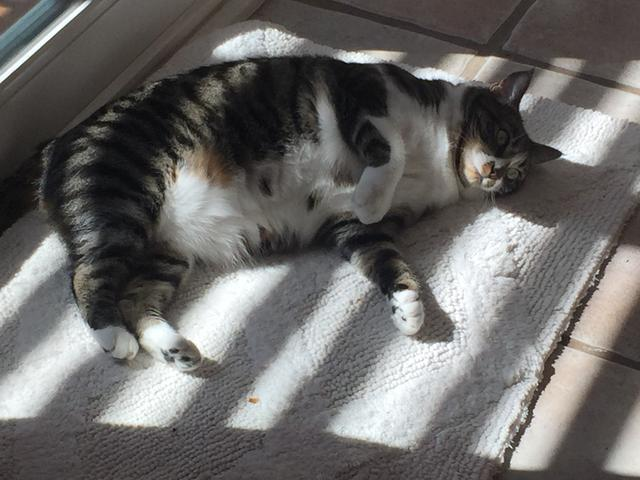playdoh: (8, 55, 567, 368)
